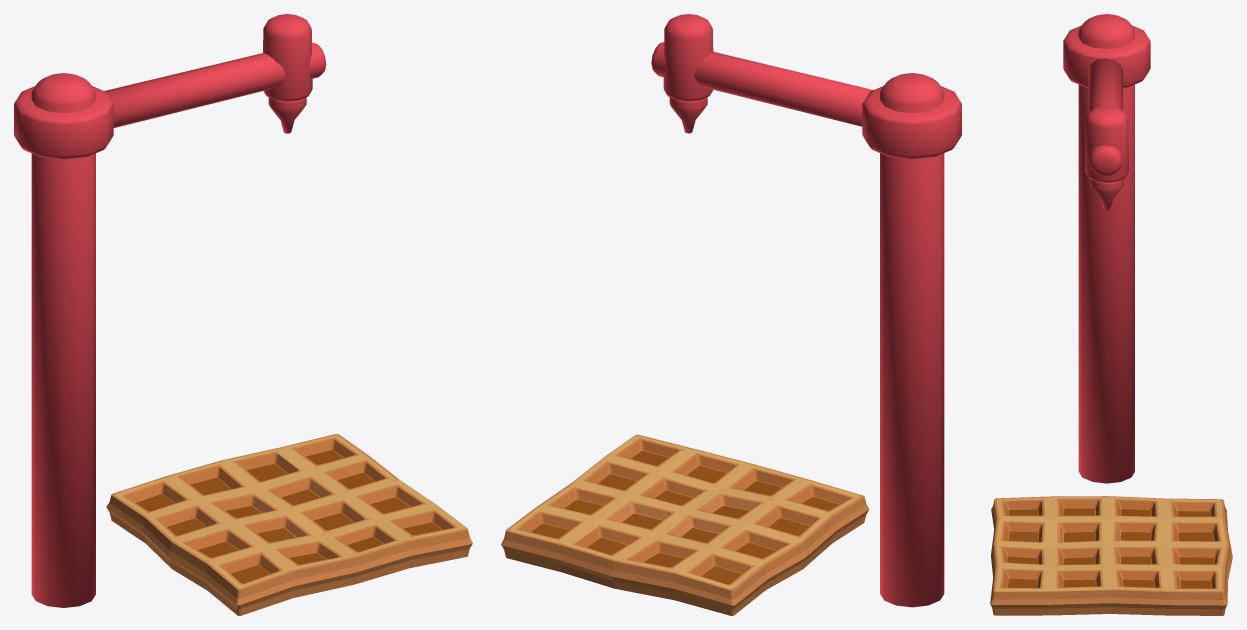
File: sos_makinesi.fbx
3 renders of one model, left to right at view 1: azimuth 30°, elevation 25°; view 2: azimuth 150°, elevation 25°; view 3: azimuth 270°, elevation 25°, orthographic. The views are drawn at different scales.
Parts seen in each view (by area): view 1: Cylinder.003, Cube; view 2: Cylinder.003, Cube; view 3: Cube, Cylinder.003.
Part boxes in pixels (x1,y1,x2,y2): Cylinder.003: [14, 14, 326, 607]; Cube: [106, 434, 472, 615]; Cylinder.003: [651, 14, 961, 607]; Cube: [501, 434, 869, 615]; Cube: [990, 496, 1232, 615]; Cylinder.003: [1063, 14, 1150, 483].
Size of the model in its own units: 340 by 438 by 210.
